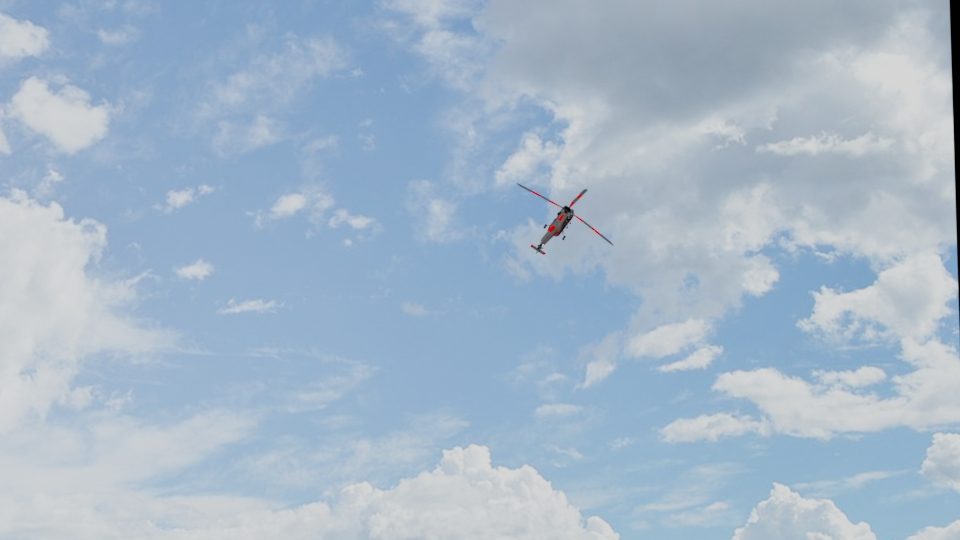heli: (527, 186, 590, 255)
